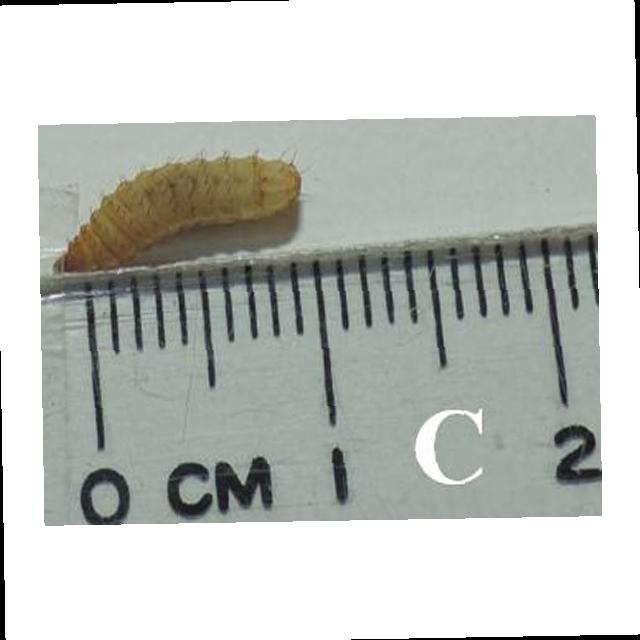Maggot: (53, 157, 305, 276)
